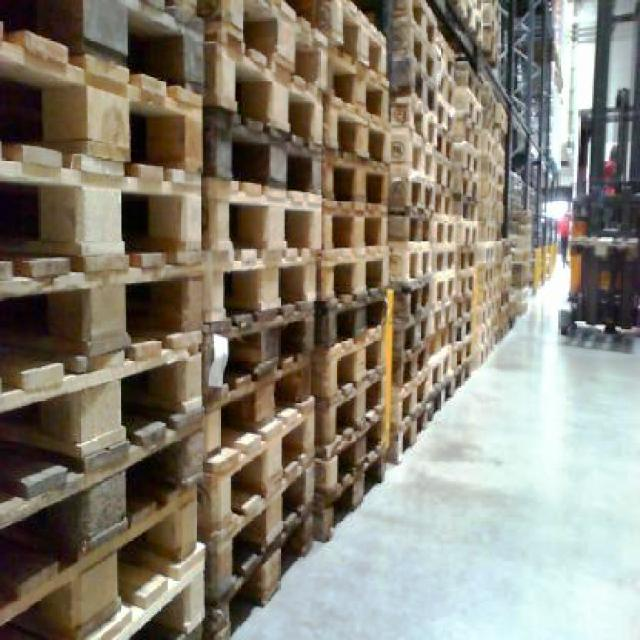ground: (206, 249, 638, 638)
pallet: (560, 231, 638, 338)
